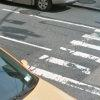Crosswalk: (36, 17, 99, 90)
